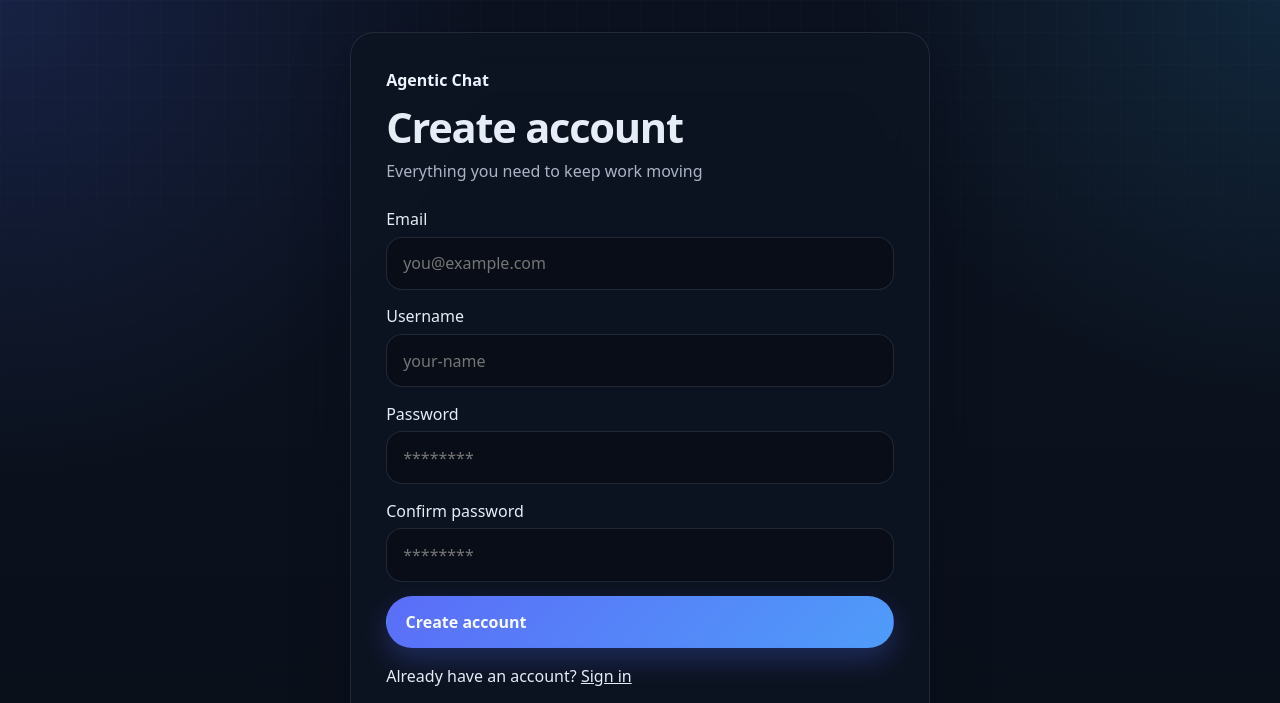
Test case: App routes › shows a friendly validation message when registration passwords do not match
Type "new.user@example.com" into the field labelled "Email" at (640, 264), box [386,237,894,290]
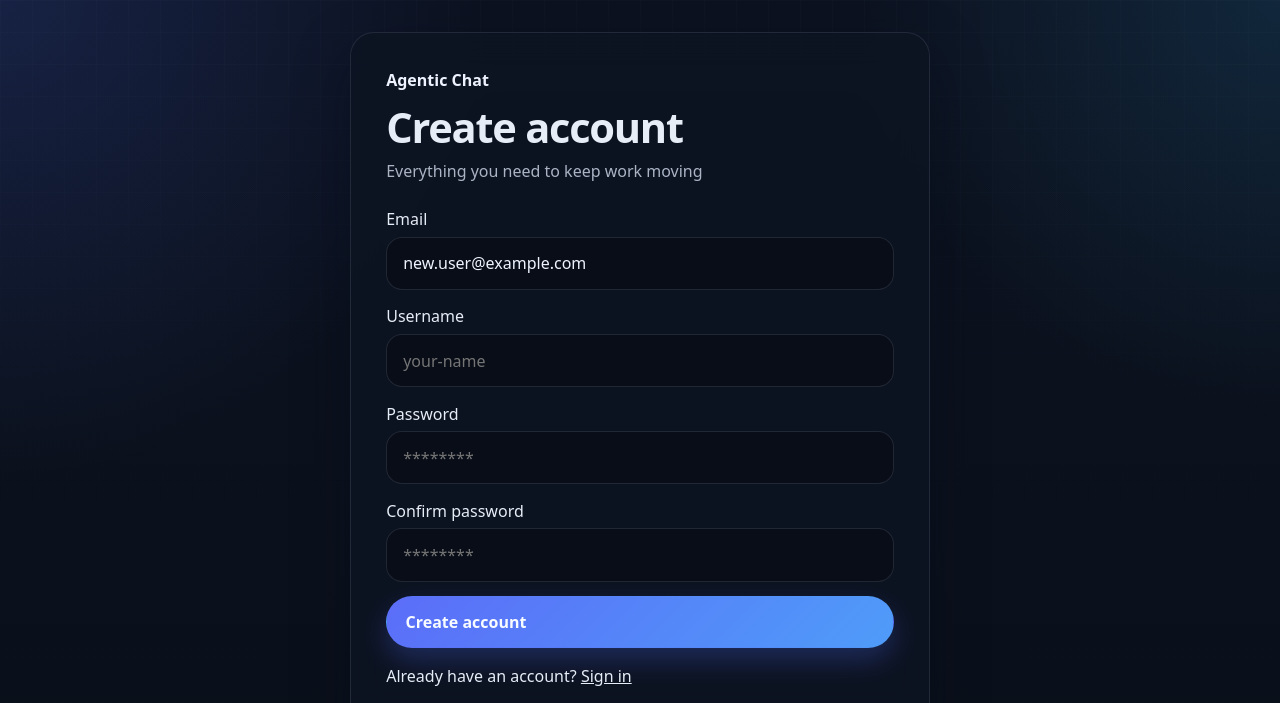
Type "new.chat.user" into the field labelled "Username" at (640, 361), box [386,334,894,387]
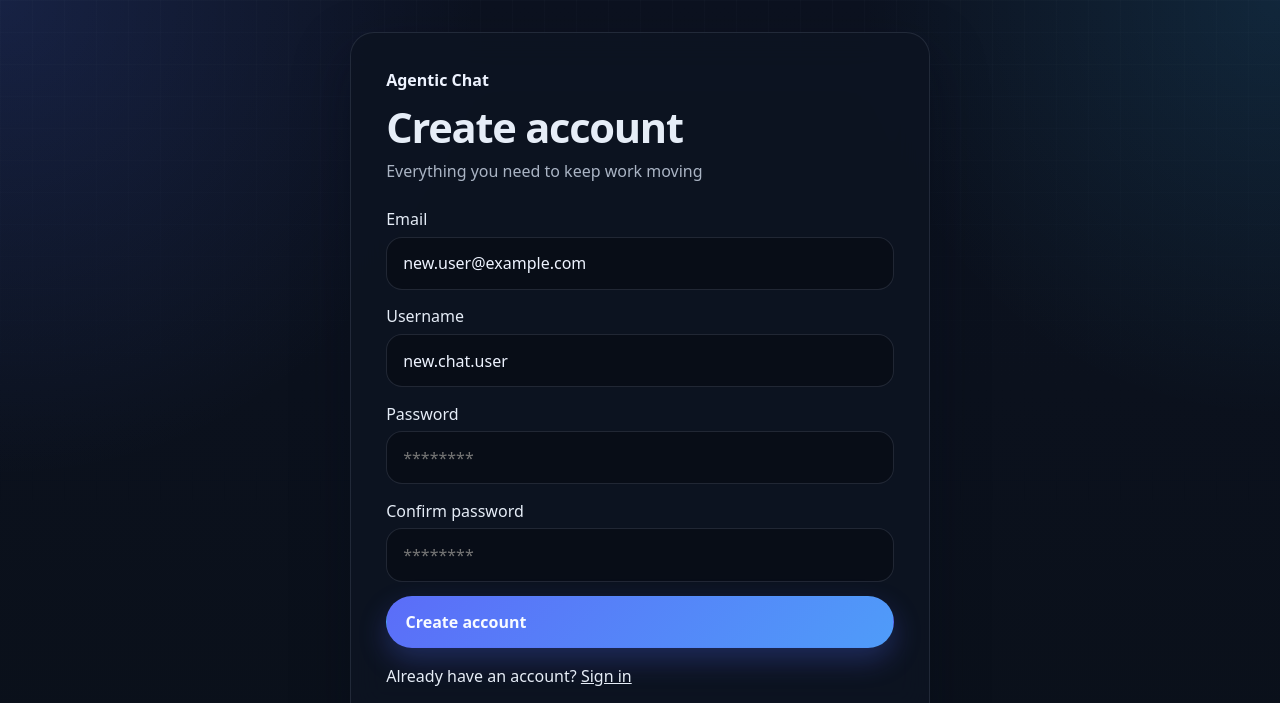
Type "correct-horse-battery-staple" into the password field labelled "Password" at (640, 458), box [386,431,894,484]
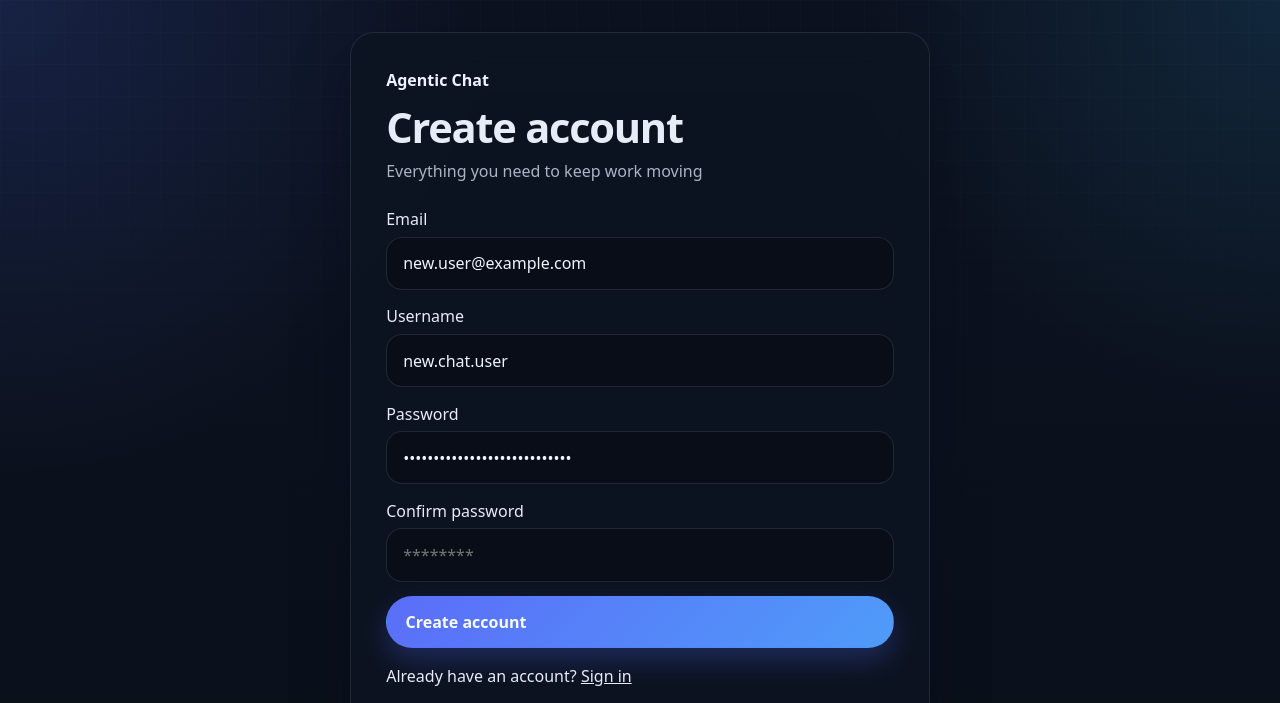
Type "mismatch-horse-battery-staple" into the password field labelled "Confirm password" at (640, 555), box [386,528,894,582]
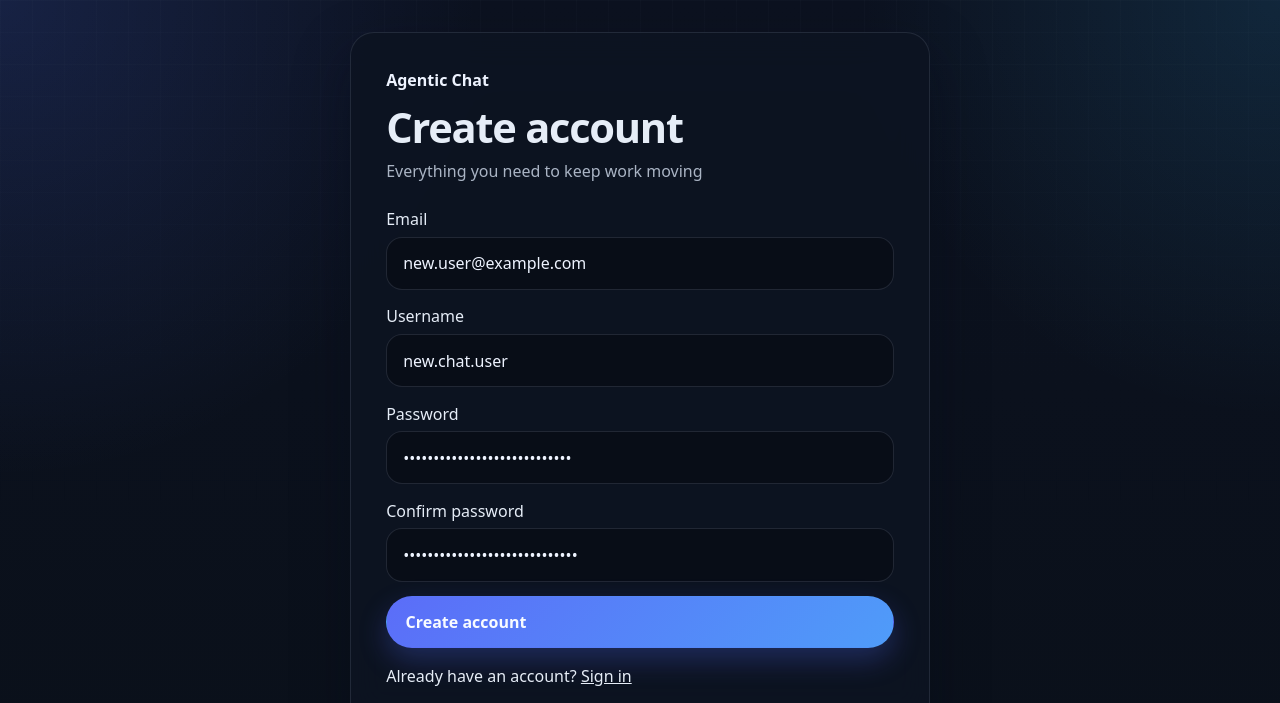
Click the button "Create account" at (466, 622), box [386,596,894,648]
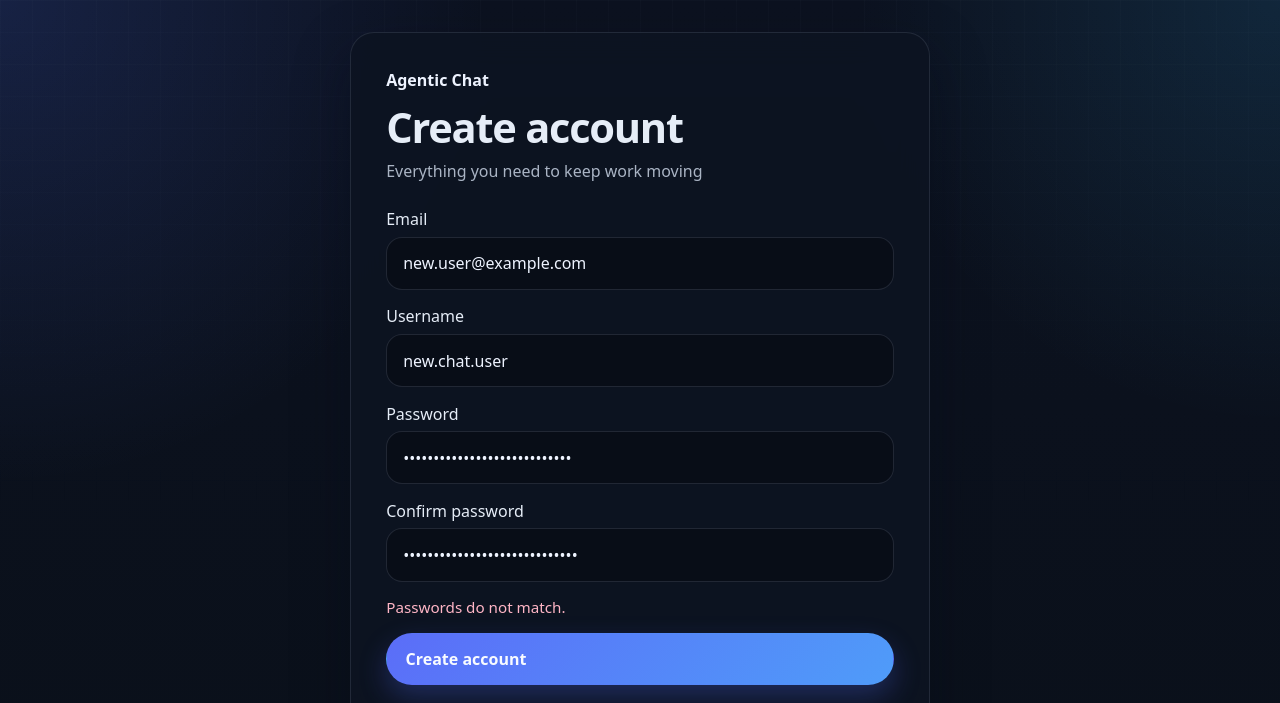
Expected: the text "Passwords do not match." is shown, [386,597,566,617]
